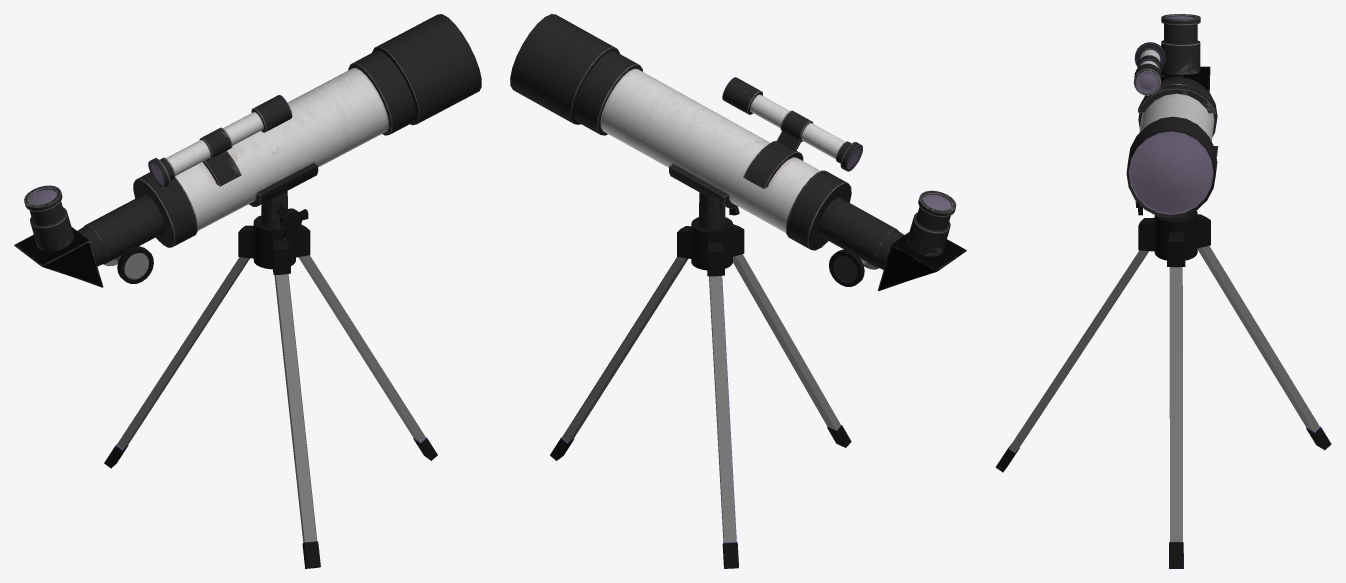
3 views of the same model, side by side, from view 1: azimuth 30°, elevation 25°; view 2: azimuth 150°, elevation 25°; view 3: azimuth 270°, elevation 25° (orthographic). The views are drawn at different scales.
Parts seen in each view (by area): view 1: TelescopeExport; view 2: TelescopeExport; view 3: TelescopeExport.
Part boxes in pixels (left/top/right/bottom): TelescopeExport: left=14, top=14, right=481, bottom=568; TelescopeExport: left=510, top=14, right=966, bottom=568; TelescopeExport: left=995, top=14, right=1331, bottom=568.
Bounding box in the file's own units: 0.5546 × 0.5314 × 0.3616.
Materials: 1 (1 with a texture image).
